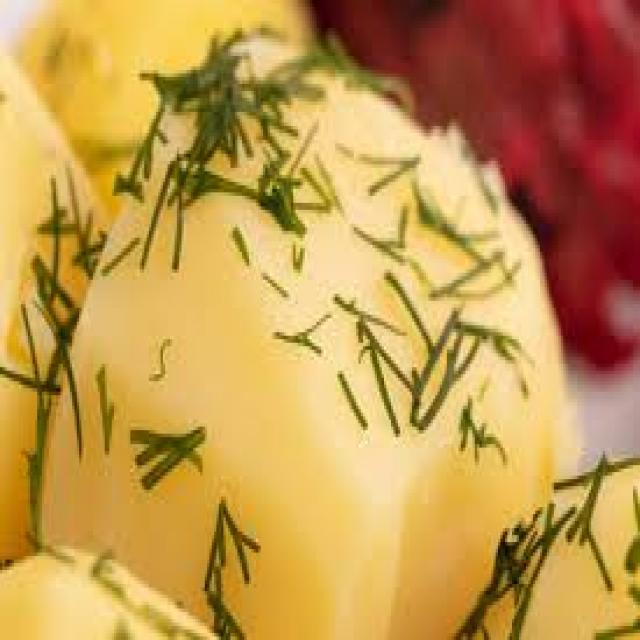organic waste: (32, 24, 580, 636), (312, 0, 638, 367), (14, 0, 309, 224), (0, 42, 102, 566), (468, 451, 638, 637), (0, 546, 219, 636)
